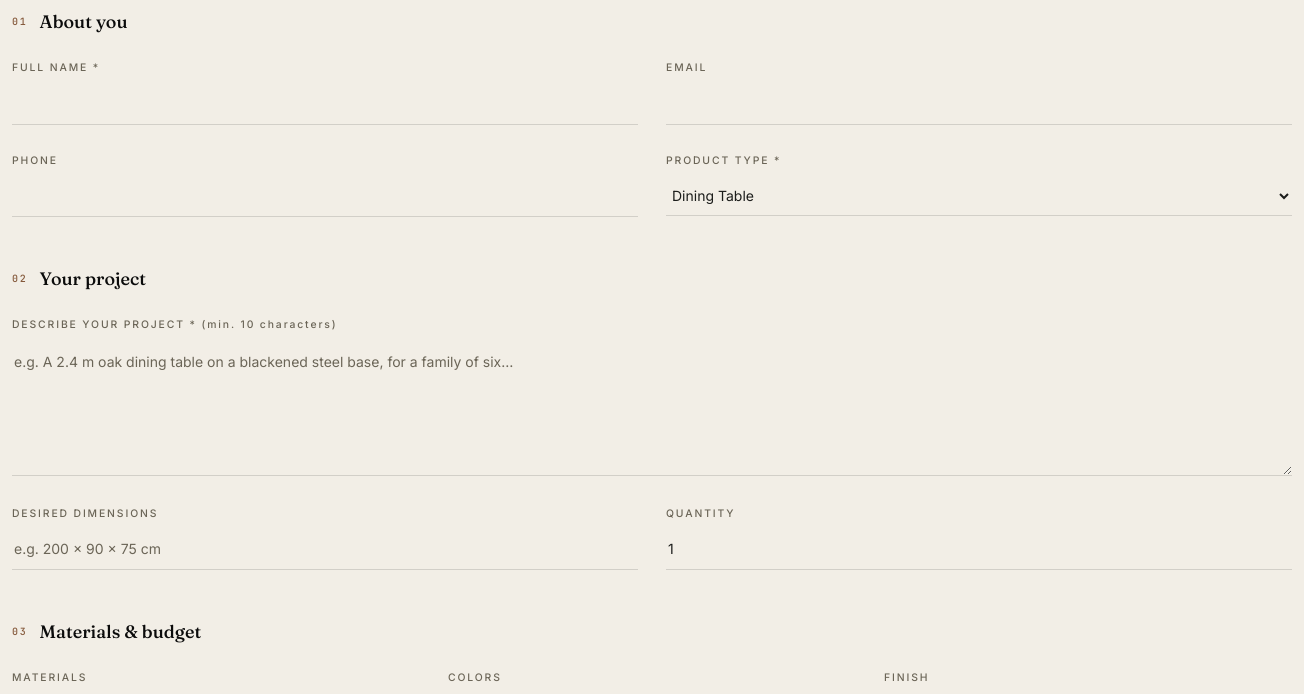
it: CustomRequestForm › submits a valid payload and shows the reference
This screenshot has width=1304, height=694.
Type "Amine Belkacem" into the field labelled "Full name *".
click(325, 104); type("Amine Belkacem")  # box [12,84,638,125]
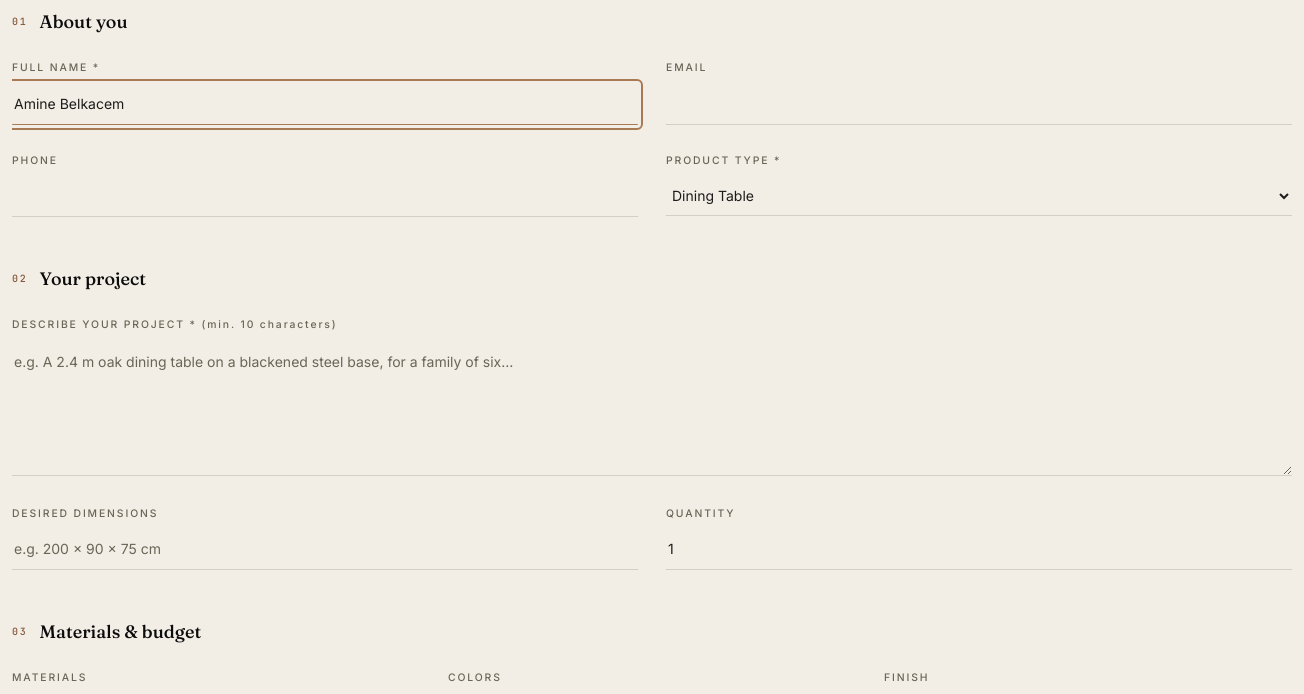
Type "amine@example.com" into the field labelled "Email".
click(979, 104); type("amine@example.com")  # box [666,84,1292,125]
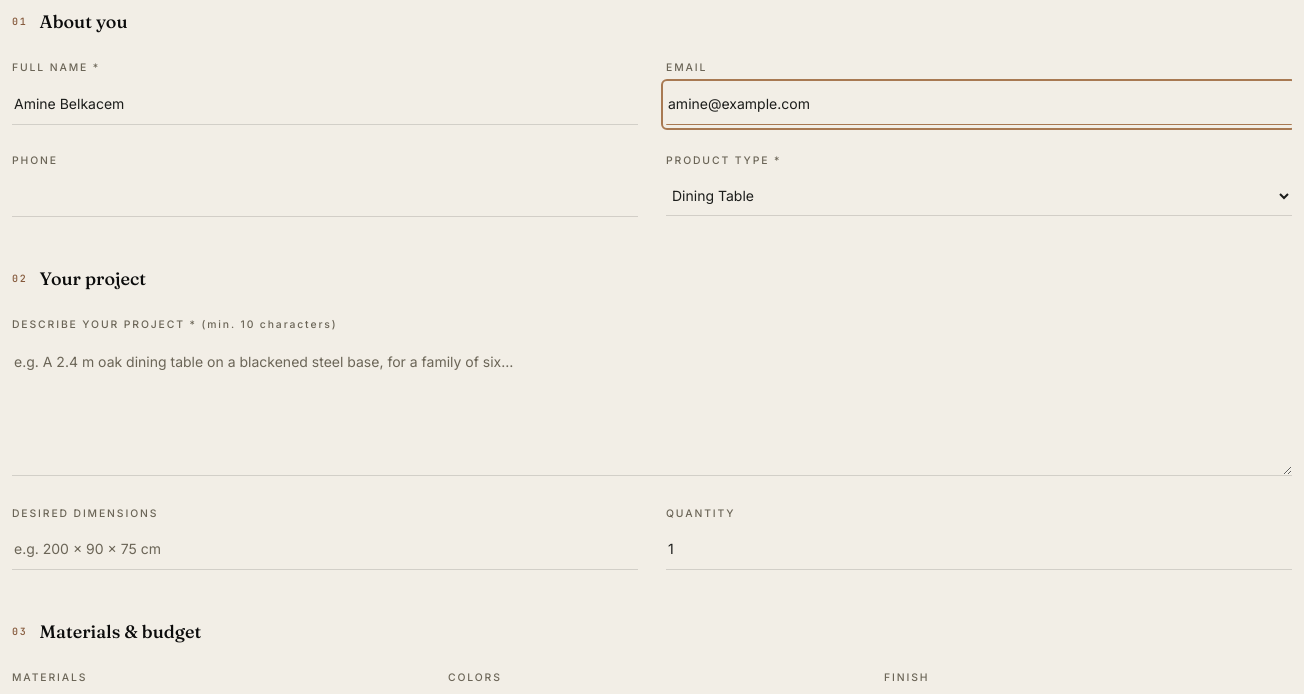
Select "Dining Table" in the dropdown labelled "Product type *" at (979, 196), box [666,176,1292,216]
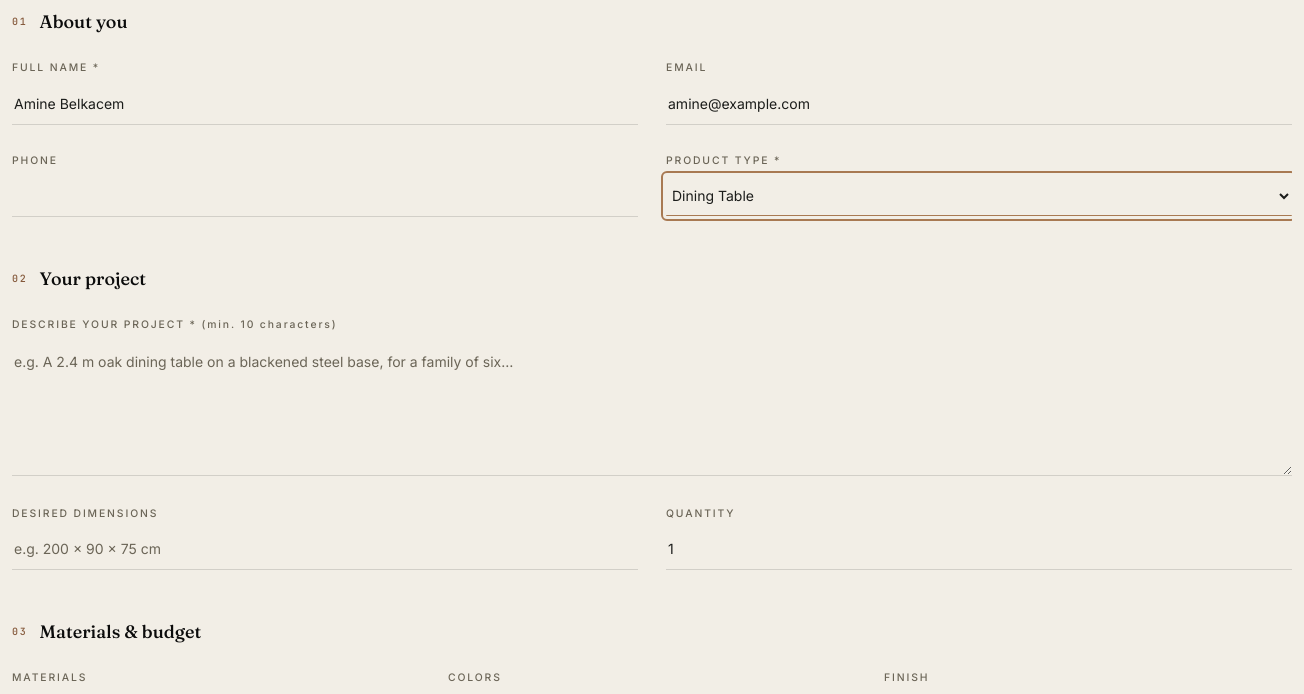
Type "A large oak dining table for 8 people" into the text box labelled "Describe your project * (min. 10 characters)".
click(652, 408); type("A large oak dining table for 8 people")  # box [12,341,1292,476]
(page scrolled)
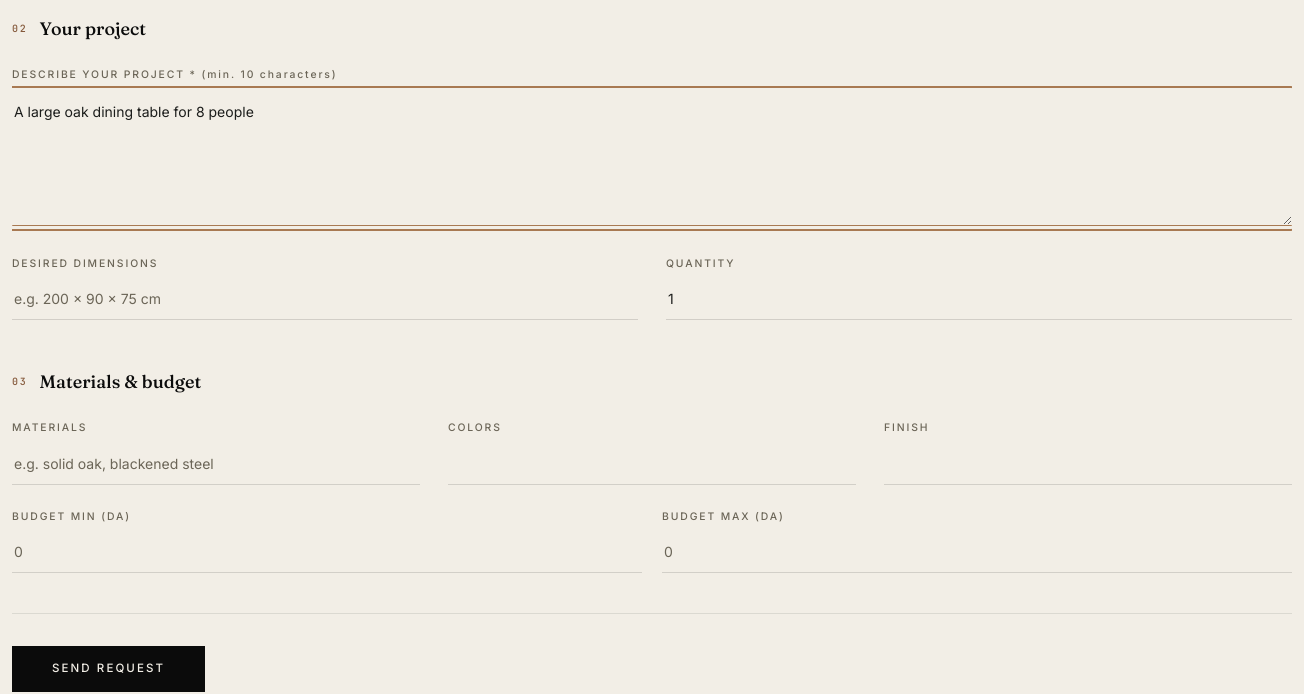
Click the button "Send request".
click(108, 669)  # box [12,646,205,692]
(page scrolled)
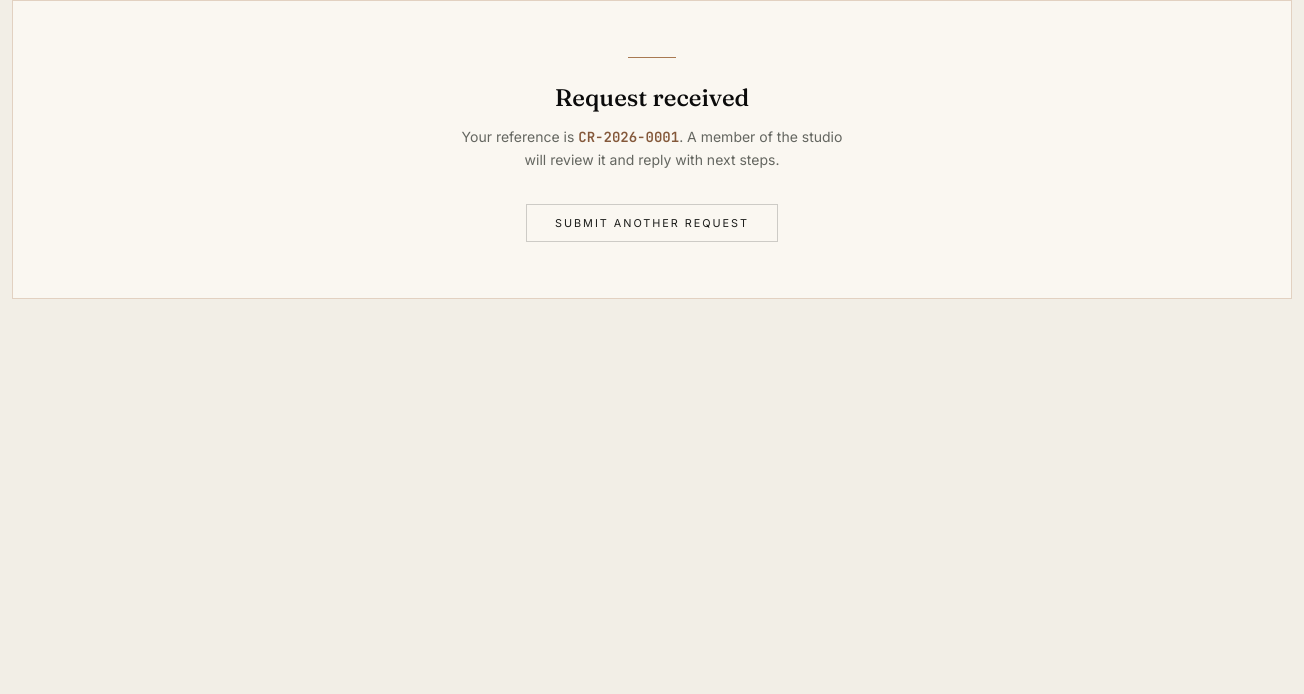
Expected: the element with test id "request-success" is shown, [12,0,1292,299]
Expected: the text "CR-2026-0001" is shown, [578,128,679,146]
